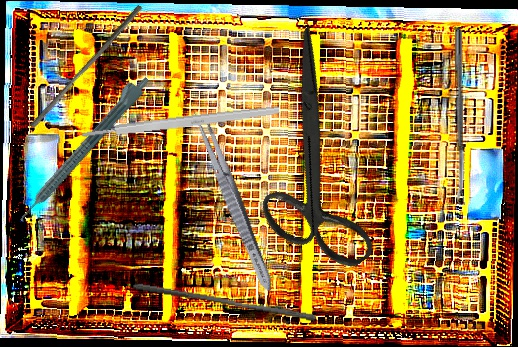Dressing Forceps: (187, 106, 280, 296)
Handpiece: (9, 69, 153, 225)
Iris Scissors: (186, 25, 444, 294)
Pusher: (28, 0, 144, 133), (131, 282, 318, 322)
Scalpel Handle: (81, 103, 280, 141)
Surgical Spoon: (453, 26, 465, 206)
